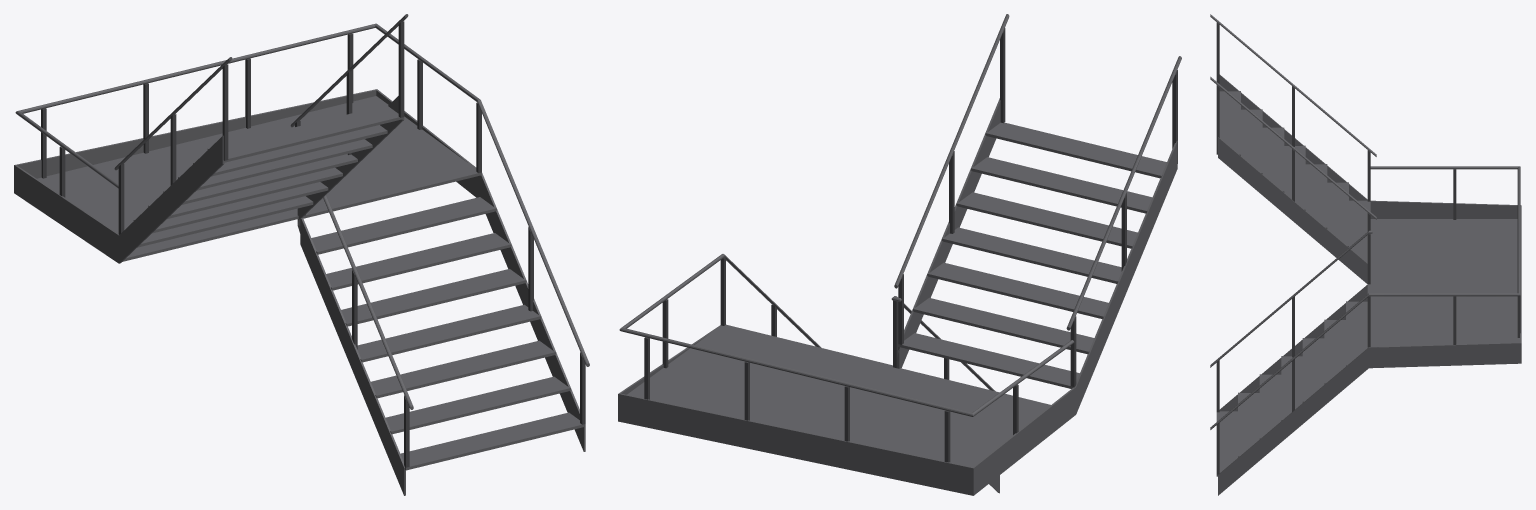
The model's file is fireEscapeStairs.glb.
3 renders of one model, left to right at view 1: azimuth 30°, elevation 25°; view 2: azimuth 150°, elevation 25°; view 3: azimuth 270°, elevation 25°, orthographic. The views are drawn at different scales.
Visible parts, largest first — view 1: Stair_fireEscape; view 2: Stair_fireEscape; view 3: Stair_fireEscape.
Part boxes in pixels (box(x1,y1,x2,y2)): Stair_fireEscape: box(14, 14, 589, 495); Stair_fireEscape: box(618, 14, 1181, 495); Stair_fireEscape: box(1210, 14, 1521, 495).
Size of what is drawn, in the model's own units: 4.04 by 5.17 by 4.12.
1 material, 1 textured.
